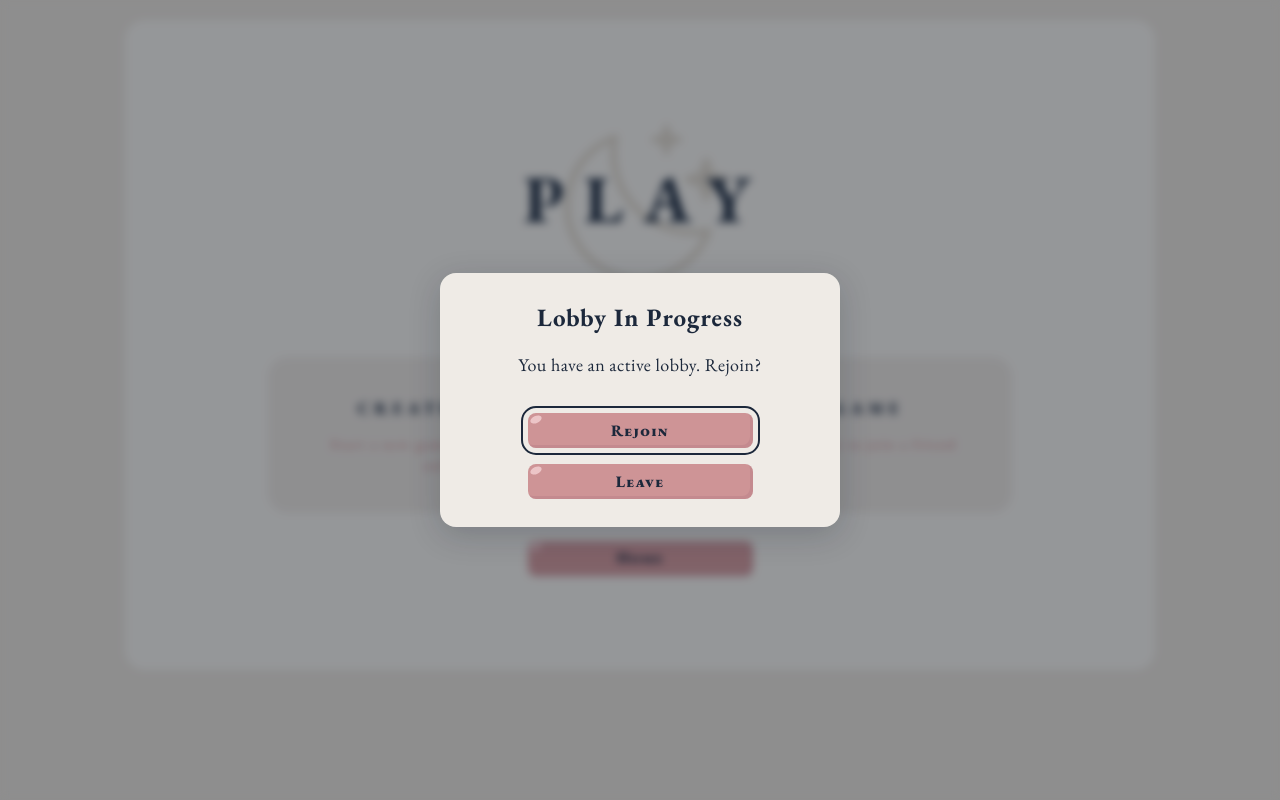
Test: keeps a waiting lobby distinct from a game in progress and shows no loss warning
The image size is (1280, 800).
Expected: the dialog "Lobby In Progress" shows "active lobby", [518,353,762,376]
Click the button "Leave". click: click(640, 482)
box: [528,464,752,499]
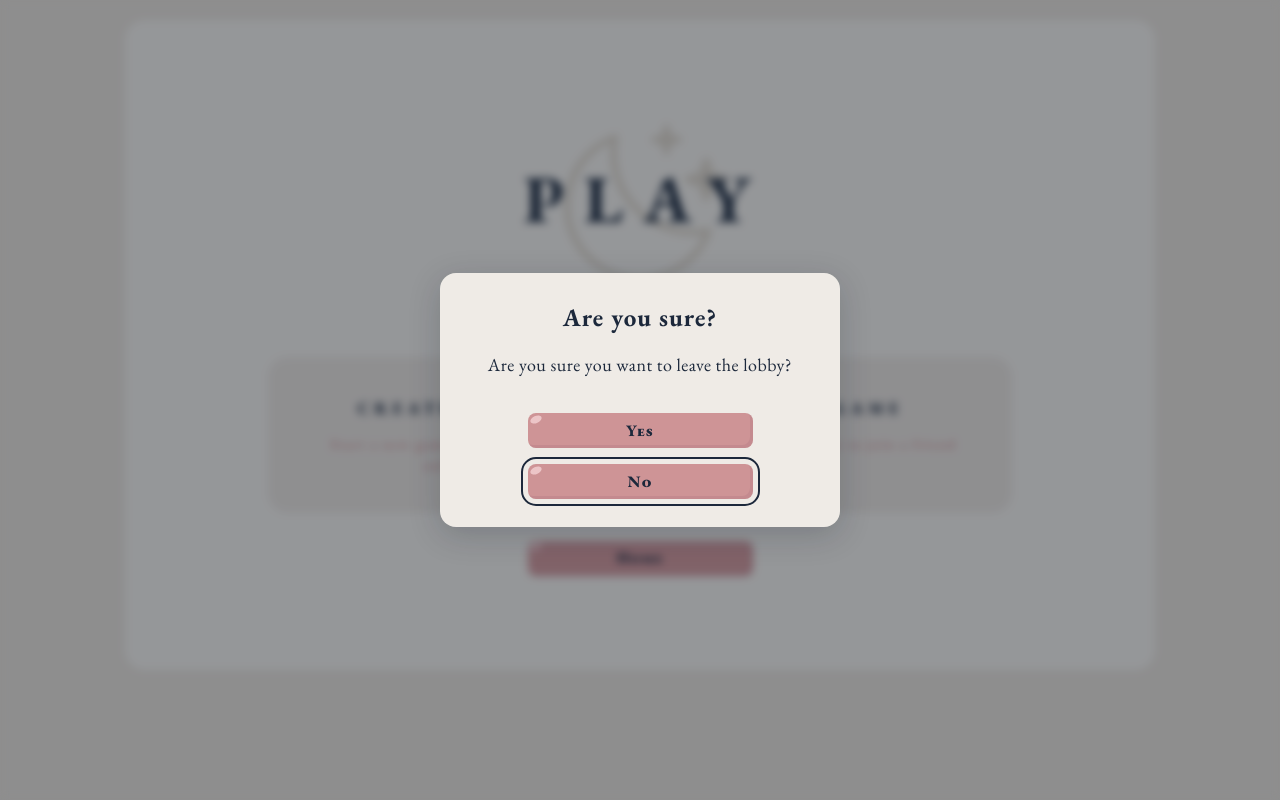
Expected: the dialog shows "leave the lobby", [488,353,792,376]
